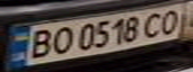0: (75, 20, 96, 52)
1: (109, 16, 130, 46)
5: (93, 17, 115, 48)
8: (121, 14, 145, 43)
B: (21, 27, 57, 61)
C: (139, 10, 169, 38)
O: (48, 25, 75, 55), (157, 7, 184, 35)
